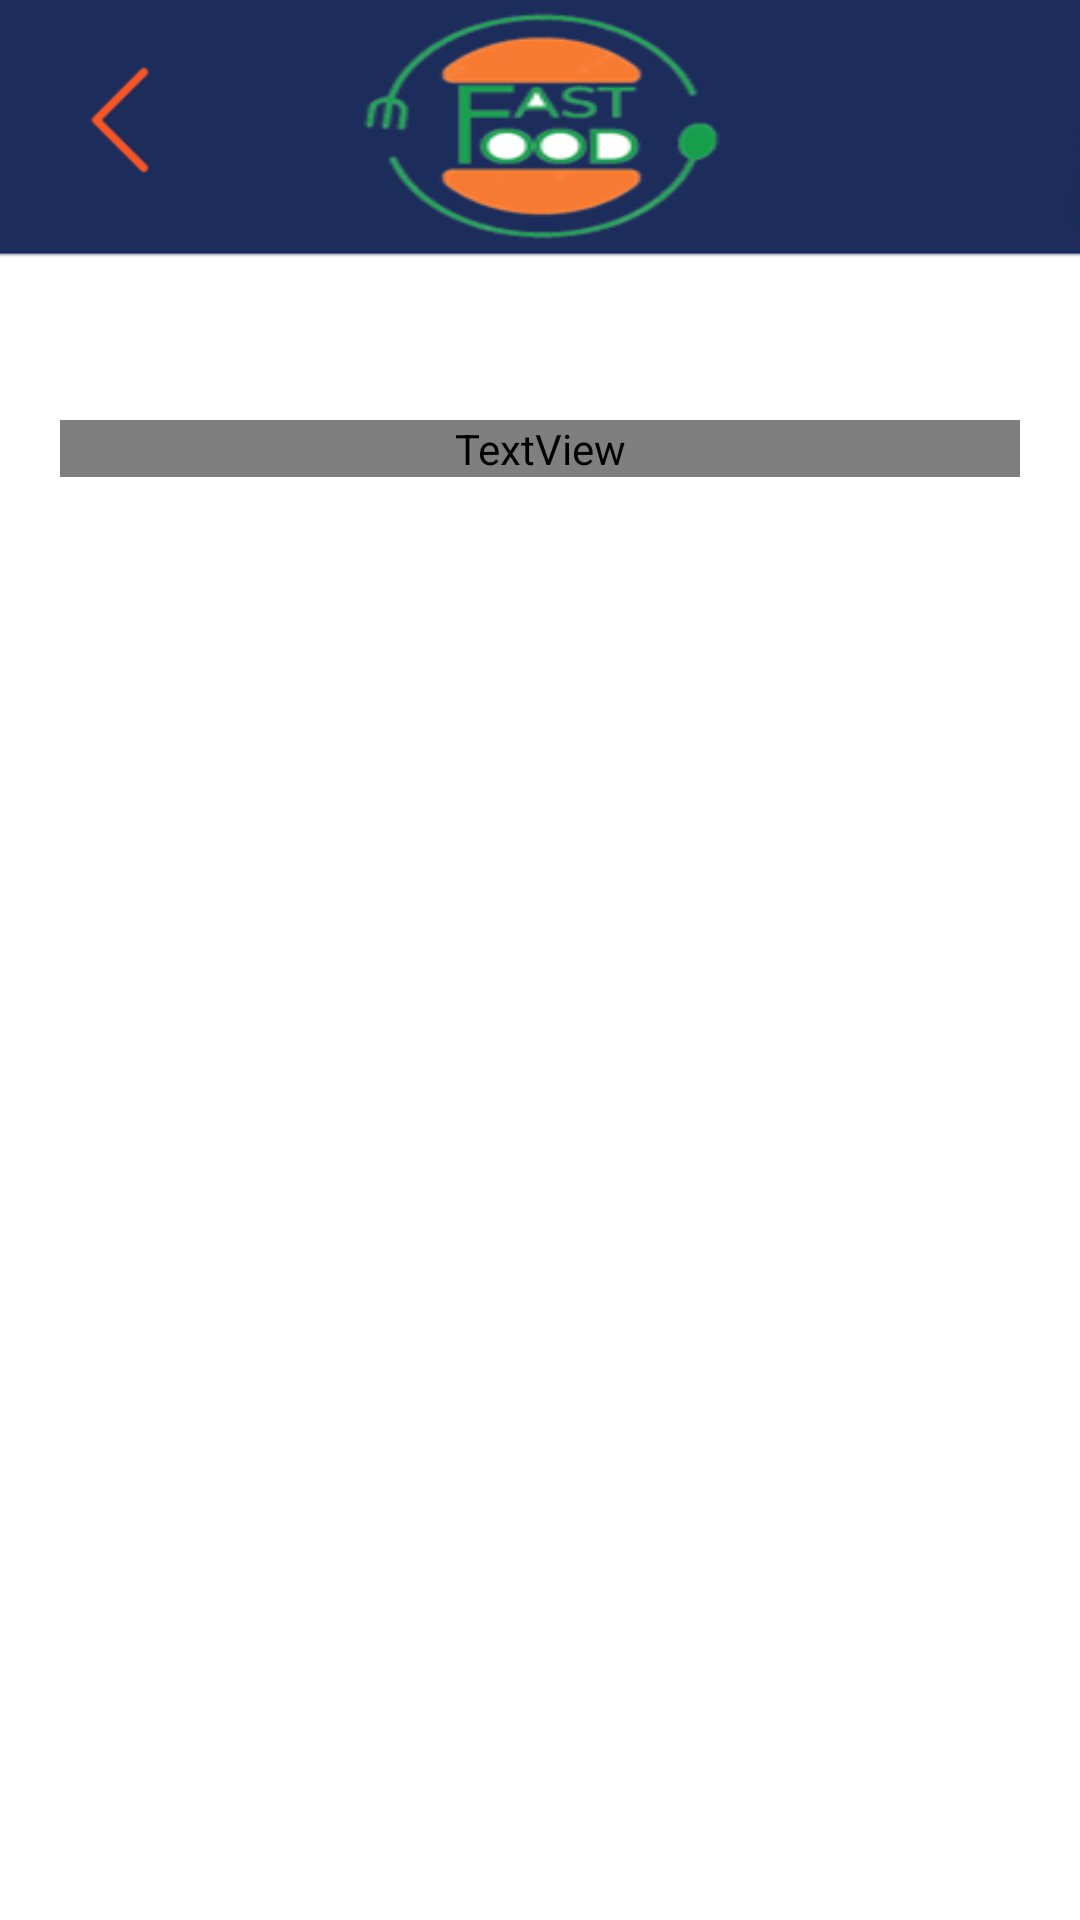

Icons on this 1080px×1920px Android screen, each with its box as [x1, y1, x2, y2]:
arrow: [91, 67, 149, 173]
